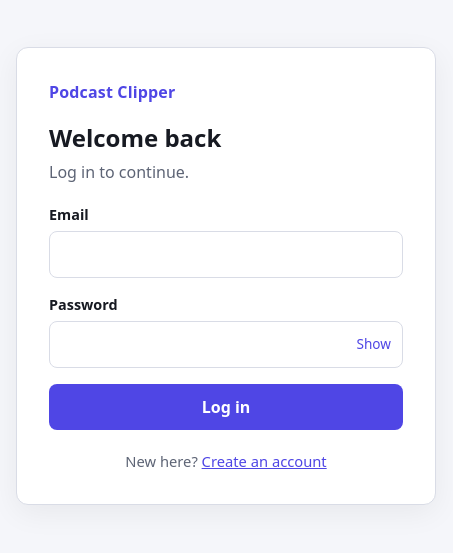
Test case: login and logout › shows the generic invalid-credentials message
Type "muneeb@example.com" into the field labelled "Email". click: coordinates (226, 254)
box: x1=49 y1=231 x2=403 y2=278
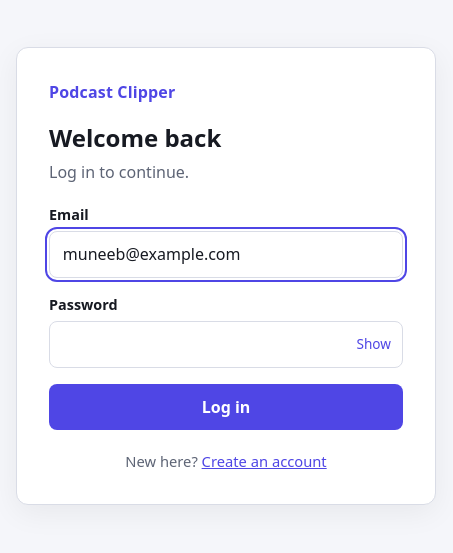
Type "WrongPass1!" into the password field labelled "Password". click: coordinates (226, 344)
box: x1=49 y1=321 x2=403 y2=368
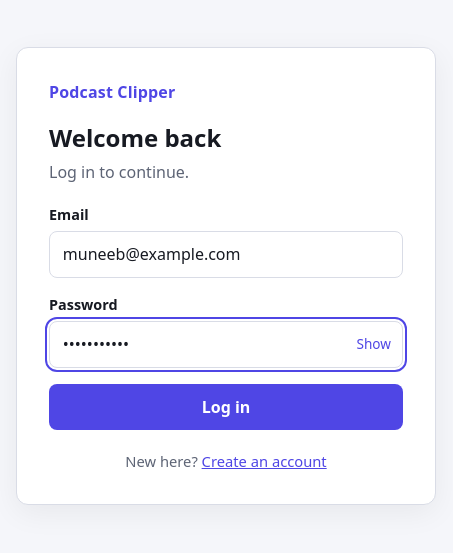
Click the button "Log in". click: coordinates (226, 407)
box: x1=49 y1=384 x2=403 y2=430
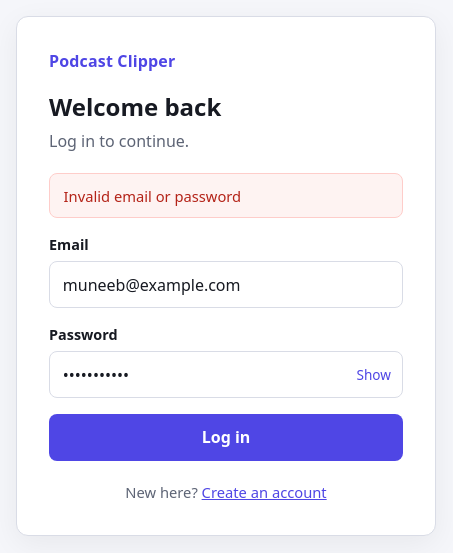
Expected: the heading "Welcome back" is shown, x1=49 y1=90 x2=221 y2=123
Result: the message reads "Invalid email or password" at x1=64 y1=186 x2=241 y2=206
